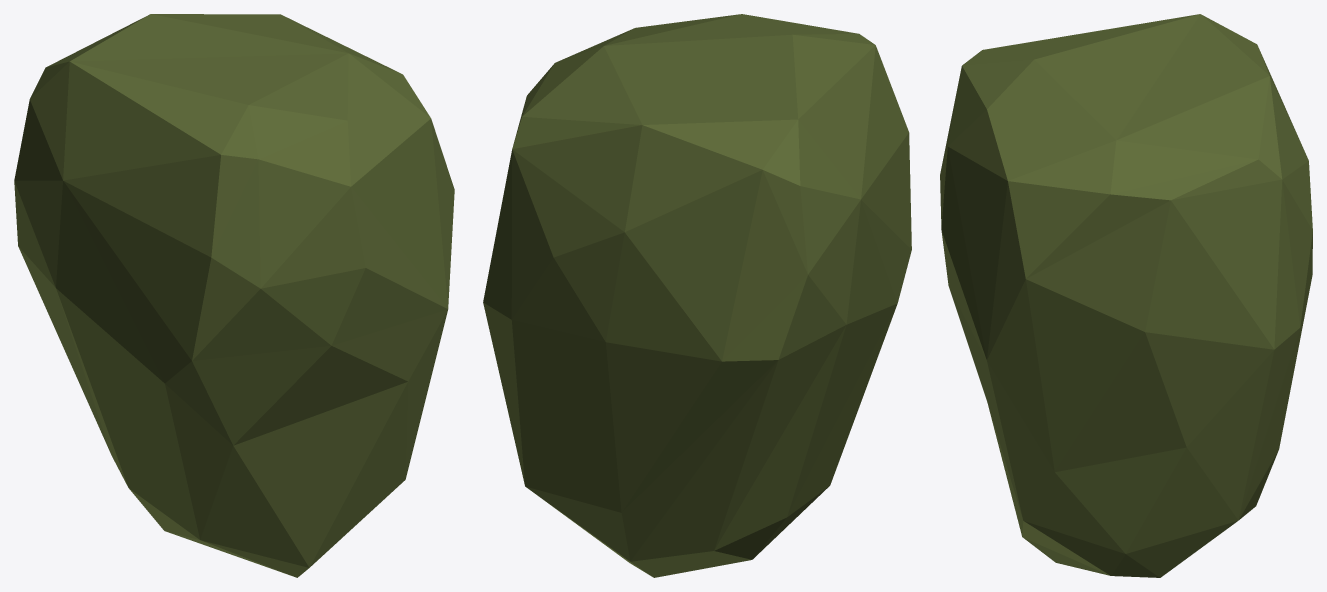
Rendered from bush_c.glb.
3 views of the same model, side by side, from view 1: azimuth 30°, elevation 25°; view 2: azimuth 150°, elevation 25°; view 3: azimuth 270°, elevation 25° (orthographic). The views are drawn at different scales.
Parts seen in each view (by area): view 1: SM_Env_Bush_03; view 2: SM_Env_Bush_03; view 3: SM_Env_Bush_03.
Part boxes in pixels (x1,y1,x2,y2): SM_Env_Bush_03: [14, 14, 454, 577]; SM_Env_Bush_03: [483, 14, 911, 577]; SM_Env_Bush_03: [940, 14, 1312, 577].
Bounding box in the file's own units: 106 × 152 × 108.
1 material, 1 textured.
